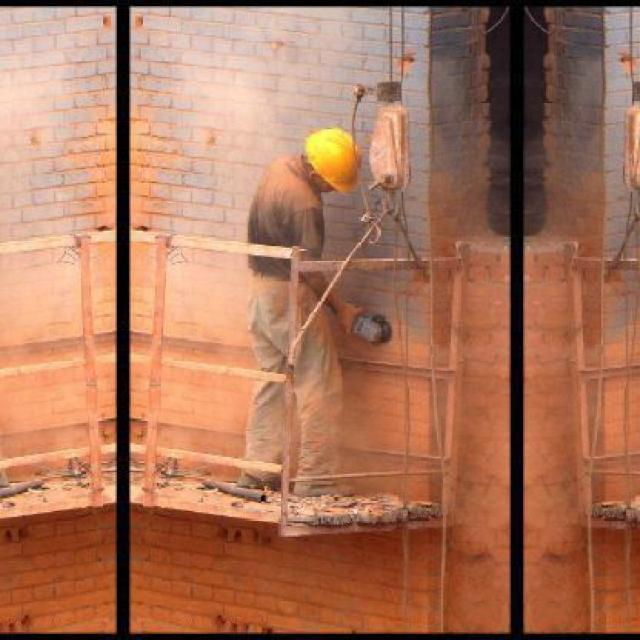hat: (300, 122, 373, 196)
